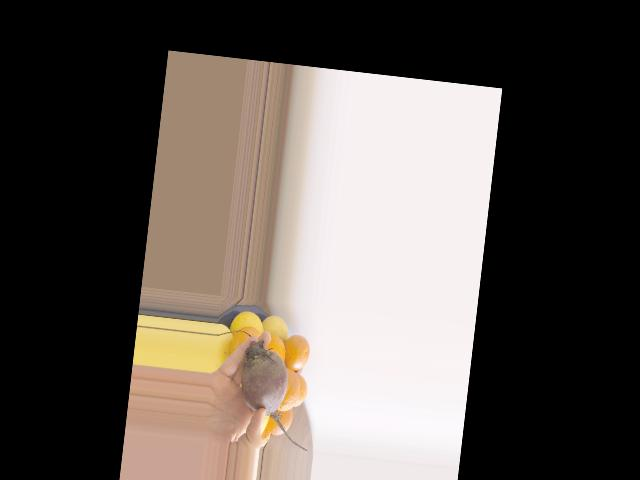beet: (234, 339, 318, 450)
